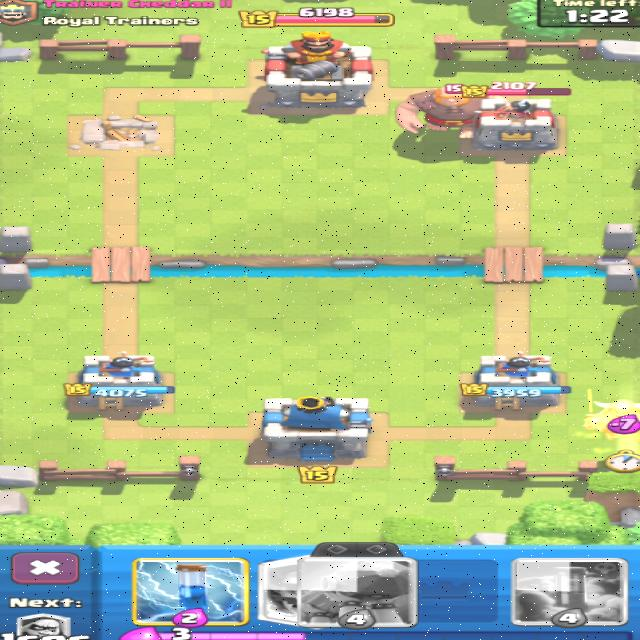Enemy-Giant: (396, 89, 485, 132)
Enemy-KingTower-Activated: (262, 31, 372, 109)
Enemy-PrincessTower: (474, 97, 557, 150)
Player-KingTower: (261, 395, 372, 460)
Player-PrincessTower: (64, 352, 173, 409), (461, 352, 569, 409)
